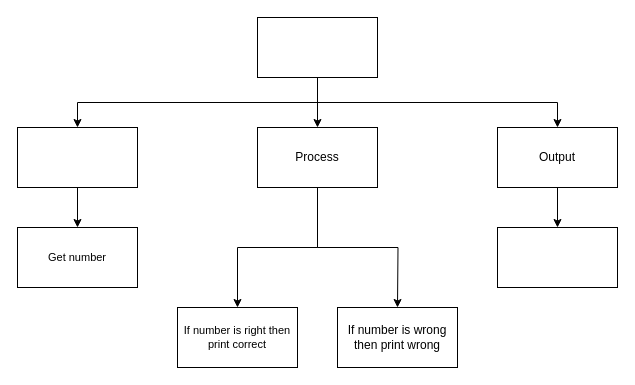
Image size: 635x385. Some labels were removed from this diagram. The box of each missing label's shape, as (x1, y1, x2, y2) in pixels:
Guessing number: (256, 16, 378, 78)
Input: (16, 126, 138, 188)
Show answer: (496, 226, 618, 288)
